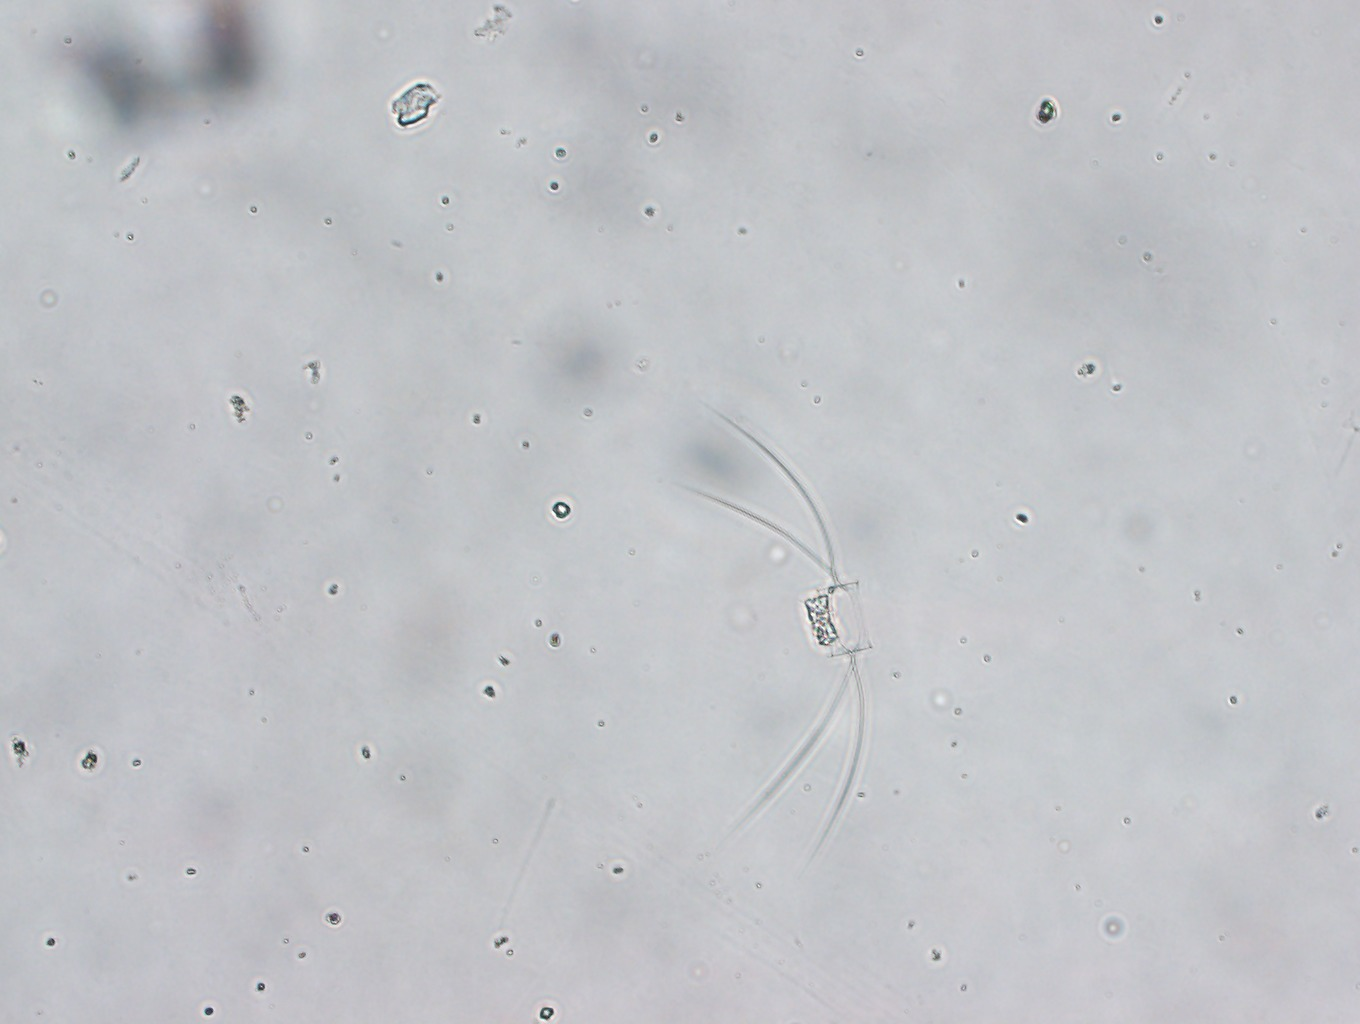chaetoceros: (675, 386, 881, 877)
